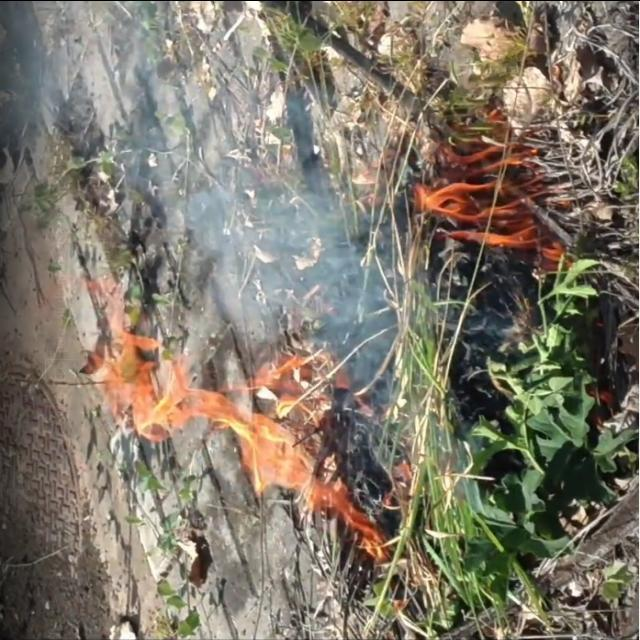Fire: (85, 315, 385, 571), (412, 122, 544, 270)
